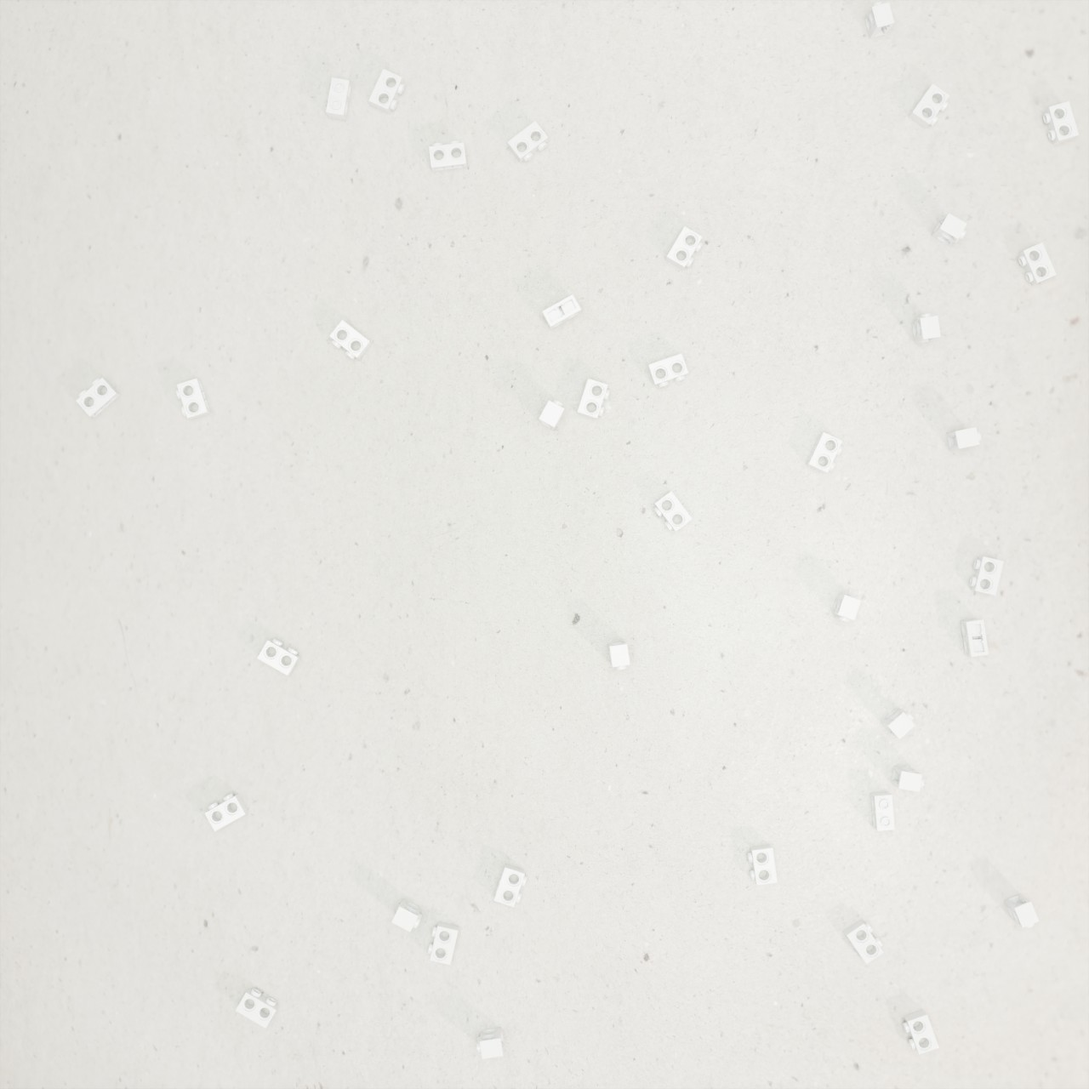lego: (908, 83, 950, 129), (843, 919, 884, 965), (235, 987, 279, 1029), (76, 377, 121, 418), (507, 120, 548, 163), (329, 319, 372, 360), (204, 793, 249, 832), (1018, 242, 1057, 286), (257, 638, 301, 676), (665, 226, 703, 270), (368, 69, 405, 114), (903, 1009, 939, 1055), (653, 491, 693, 532), (1043, 101, 1079, 145), (806, 432, 843, 474), (176, 378, 211, 420), (647, 353, 689, 388), (494, 864, 527, 907), (542, 294, 581, 330), (969, 556, 1004, 596), (577, 378, 610, 420), (427, 922, 459, 965), (747, 844, 778, 886), (1004, 893, 1039, 928), (931, 213, 967, 246), (429, 141, 467, 172), (864, 1, 895, 39), (326, 77, 352, 121), (960, 618, 989, 657), (880, 708, 916, 739), (391, 898, 422, 932), (870, 791, 895, 831), (831, 593, 862, 623), (912, 313, 941, 344), (477, 1027, 504, 1059), (891, 766, 924, 792), (946, 427, 981, 451), (539, 399, 565, 430), (608, 641, 630, 670)
